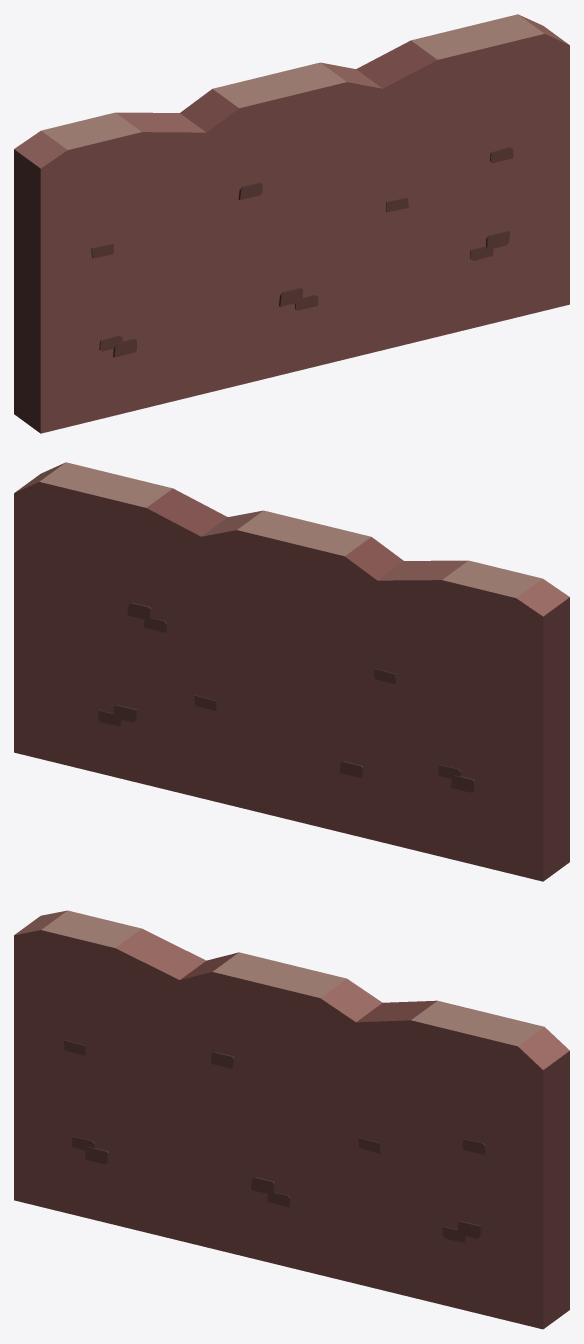
File: TB_D_Bd_Wall_Plain_B_Red.FBX
3 views of the same model, one above another, from view 1: azimuth 30°, elevation 25°; view 2: azimuth 150°, elevation 25°; view 3: azimuth 330°, elevation 25° (orthographic).
Parts seen in each view (by area): view 1: TB_D_Bd_Wall_Plain_B_Red; view 2: TB_D_Bd_Wall_Plain_B_Red; view 3: TB_D_Bd_Wall_Plain_B_Red.
Boxes of the visible parts, x1=… form: TB_D_Bd_Wall_Plain_B_Red: x1=14, y1=14, x2=569, y2=433; TB_D_Bd_Wall_Plain_B_Red: x1=14, y1=462, x2=569, y2=881; TB_D_Bd_Wall_Plain_B_Red: x1=14, y1=910, x2=569, y2=1329.
Size of the model in its own units: 8 by 4 by 0.7691.
